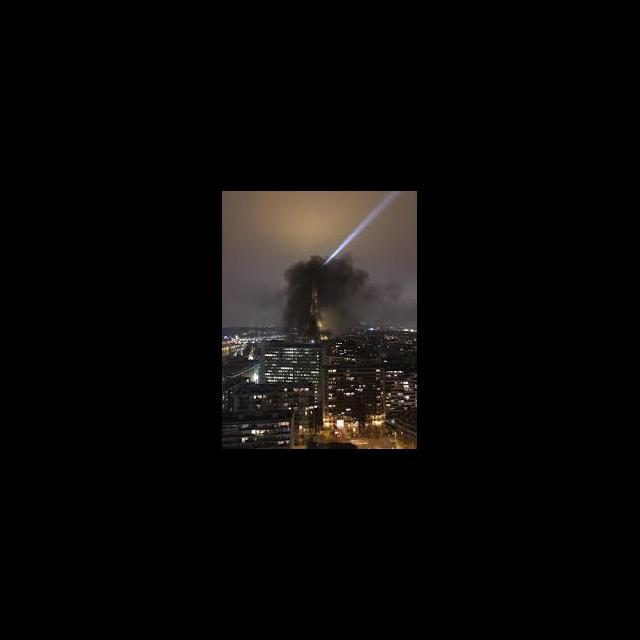Smoke: (279, 249, 367, 336)
